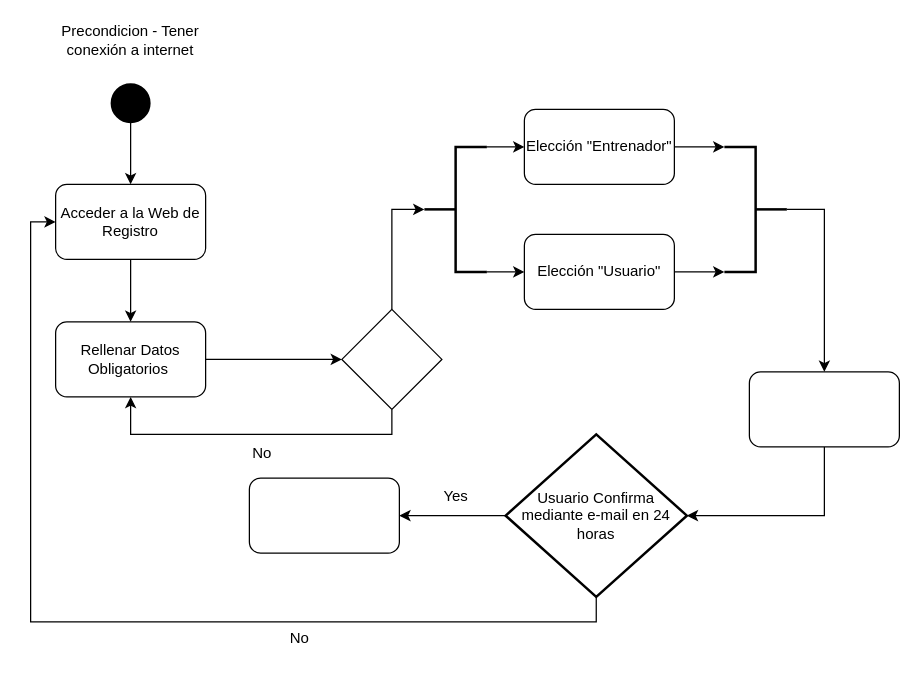
Some shapes in this 921 by 678 pixel diagram are drawn without their labels. The shapes that lost their labels are listed below. From the top down, each one's box as (x1, y1, x2, y2) in pixels, then its label:
(341, 308, 442, 409): Datos correctos
(748, 371, 899, 447): Envío de email de confirmación
(248, 477, 399, 553): Registro completo
